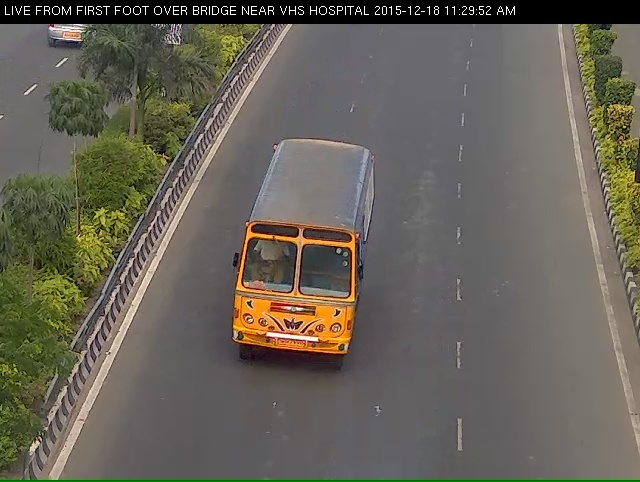Bus: (225, 135, 368, 394)
